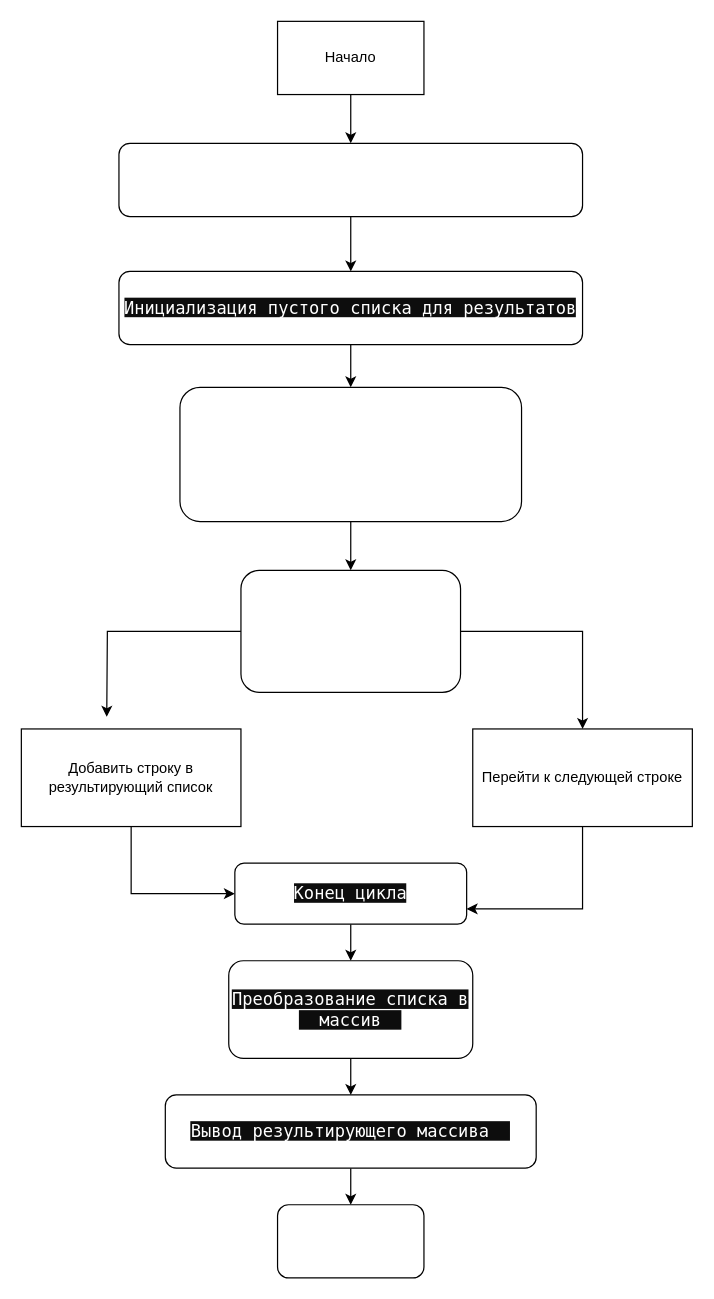
Image size: 714x1299. Some labels were removed from this diagram. The shapes that lost their labels are listed below. From the top down, each one's centre as x and y in pixels, then its label:
At (350,179): "Инициализация массива строк".
At (350,454): "Цикл по элементам исходного массива".
At (350,630): "Проверка длины строки str.Length <= 3?".
At (350,1241): "Конец".
